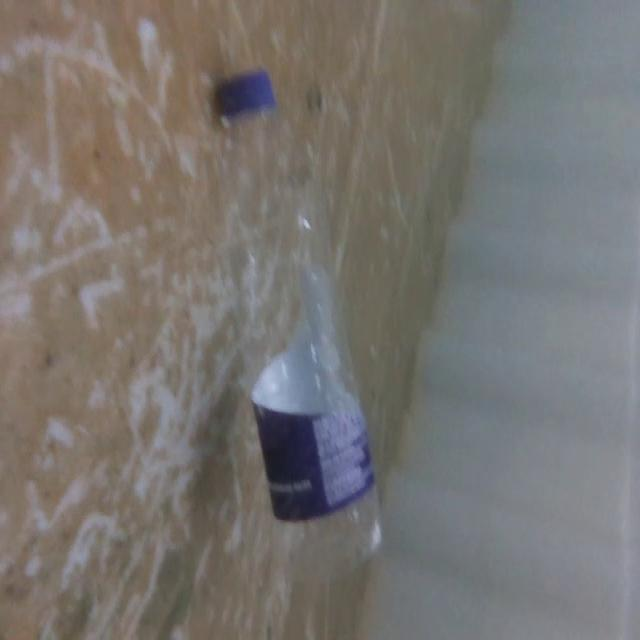plastic bottle: (201, 67, 392, 559)
